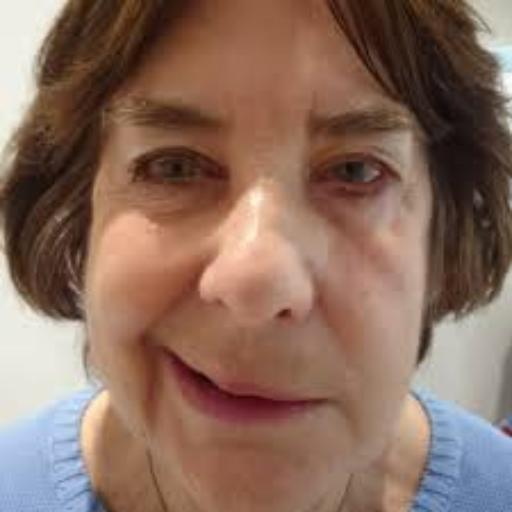left_eye: (318, 158, 399, 191)
left_lip_corner: (312, 387, 347, 417)
right_eye: (138, 155, 218, 191)
right_lip_corner: (145, 337, 181, 364)
